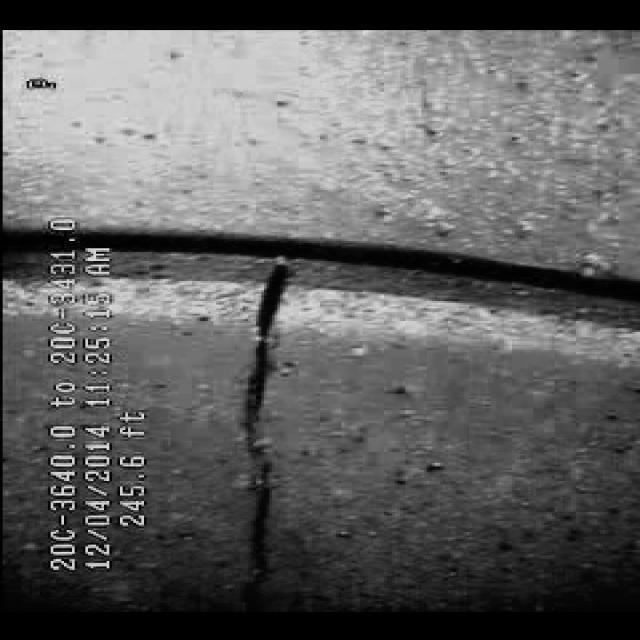Crack: (189, 286, 350, 604)
